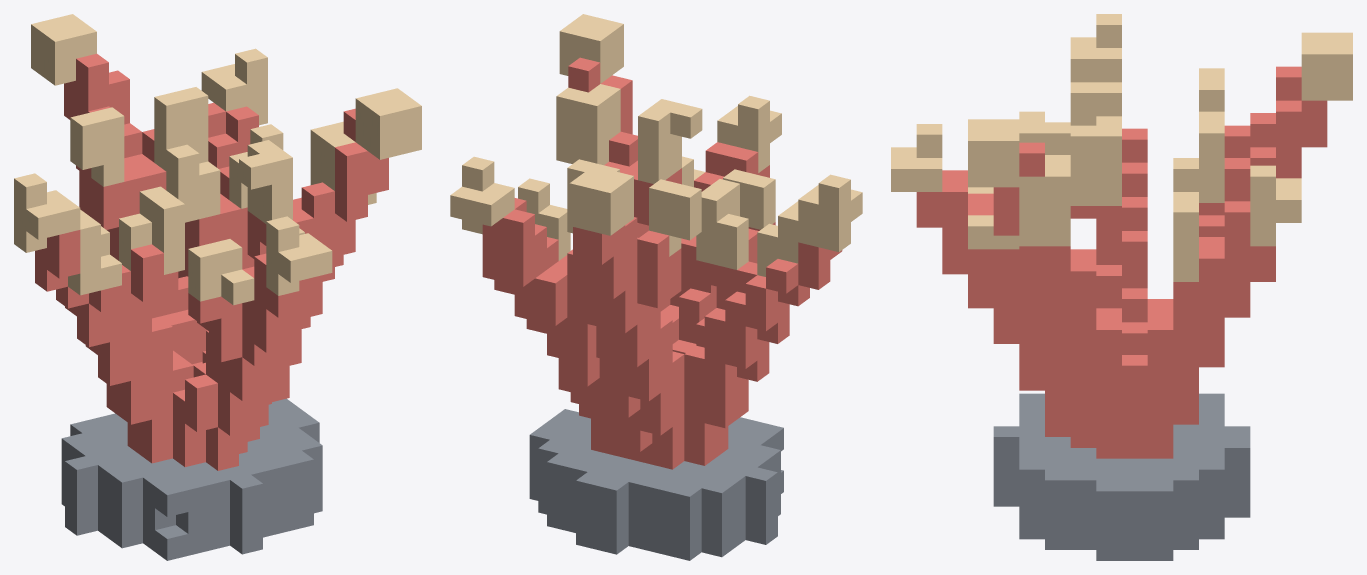
The model's file is staghorn_coral.glb.
3 views of the same model, side by side, from view 1: azimuth 30°, elevation 25°; view 2: azimuth 150°, elevation 25°; view 3: azimuth 270°, elevation 25° (orthographic). The views are drawn at different scales.
Size of the model in its own units: 0.6667 by 0.7917 by 0.75.
